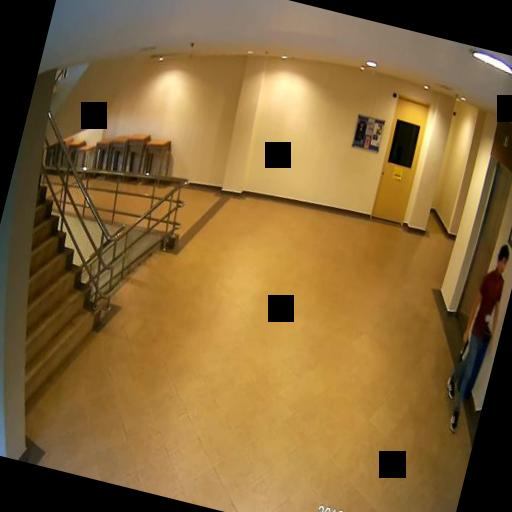Handgun: (457, 334, 469, 360)
